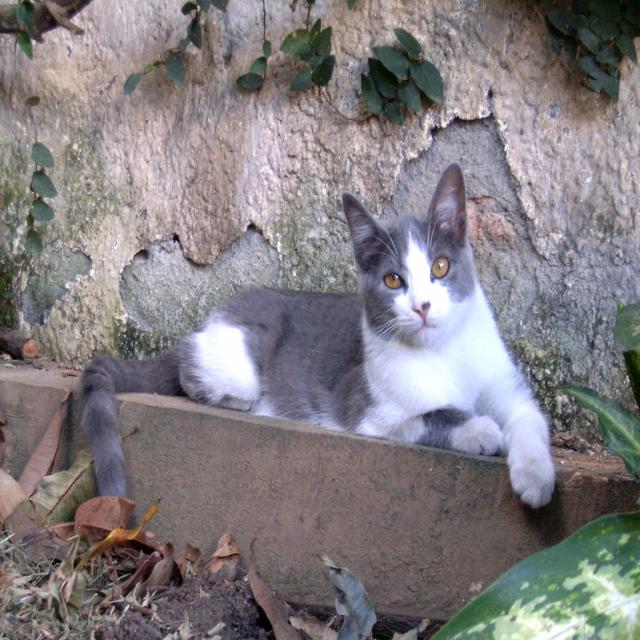Cat: (74, 156, 552, 530)
